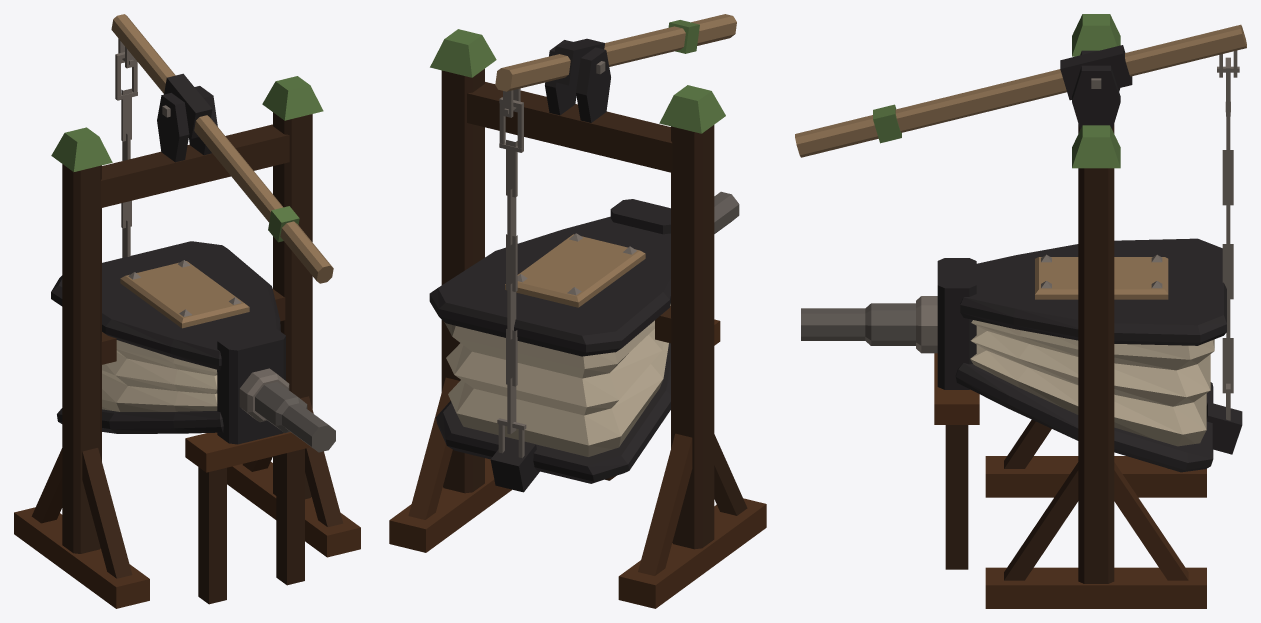
Rendered from leather-forge-bellows-7f6d42.glb.
3 renders of one model, left to right at view 1: azimuth 30°, elevation 25°; view 2: azimuth 150°, elevation 25°; view 3: azimuth 270°, elevation 25°, orthographic. The views are drawn at different scales.
Parts seen in each view (by area): view 1: object 1, lever; view 2: object 1, lever; view 3: object 1, lever.
Part boxes in pixels (left/top/right/bottom): object 1: left=14, top=52, right=360, bottom=608; lever: left=111, top=14, right=333, bottom=283; object 1: left=389, top=29, right=766, bottom=608; lever: left=495, top=14, right=736, bottom=117; object 1: left=801, top=14, right=1242, bottom=608; lever: left=795, top=24, right=1246, bottom=157.
Bounding box in the file's own units: 0.961 × 1.76 × 1.39.
